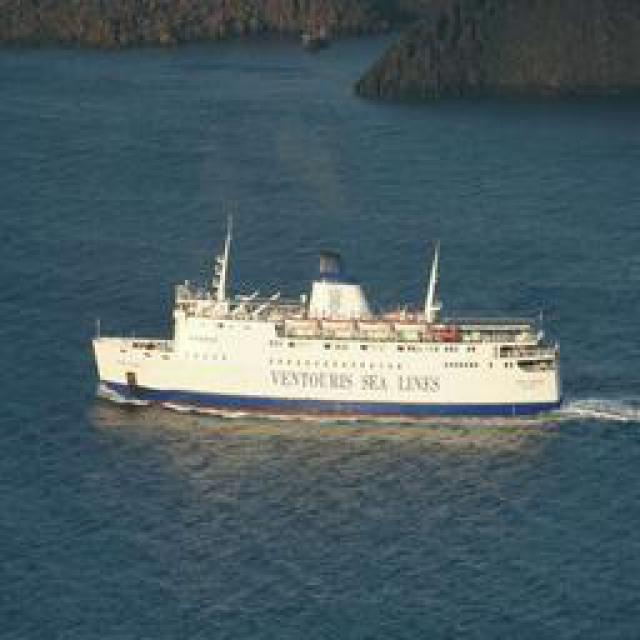Ship: (96, 224, 564, 424)
